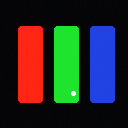0 point: (71, 91, 75, 95)
